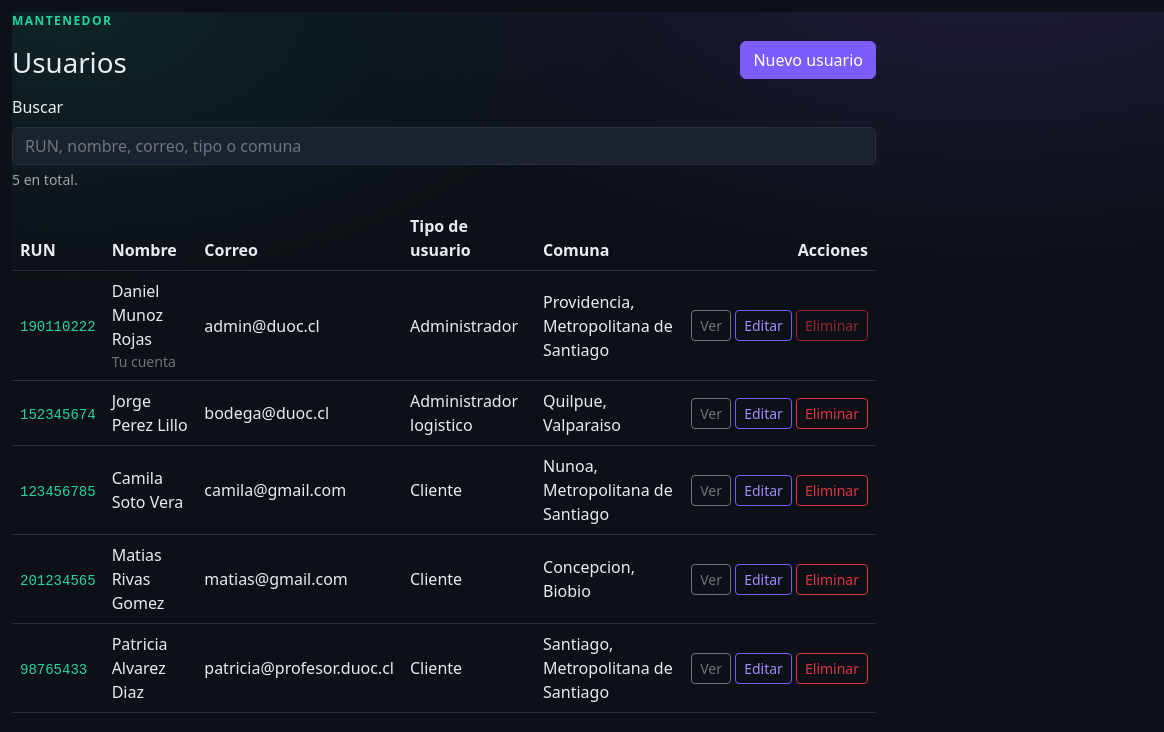
Scenario: admin / Usuarios › una busqueda sin resultados muestra el estado vacio
The image size is (1164, 732).
Type "zzzzzz" into the search field labelled "Buscar" at (444, 146), box [12,127,876,165]
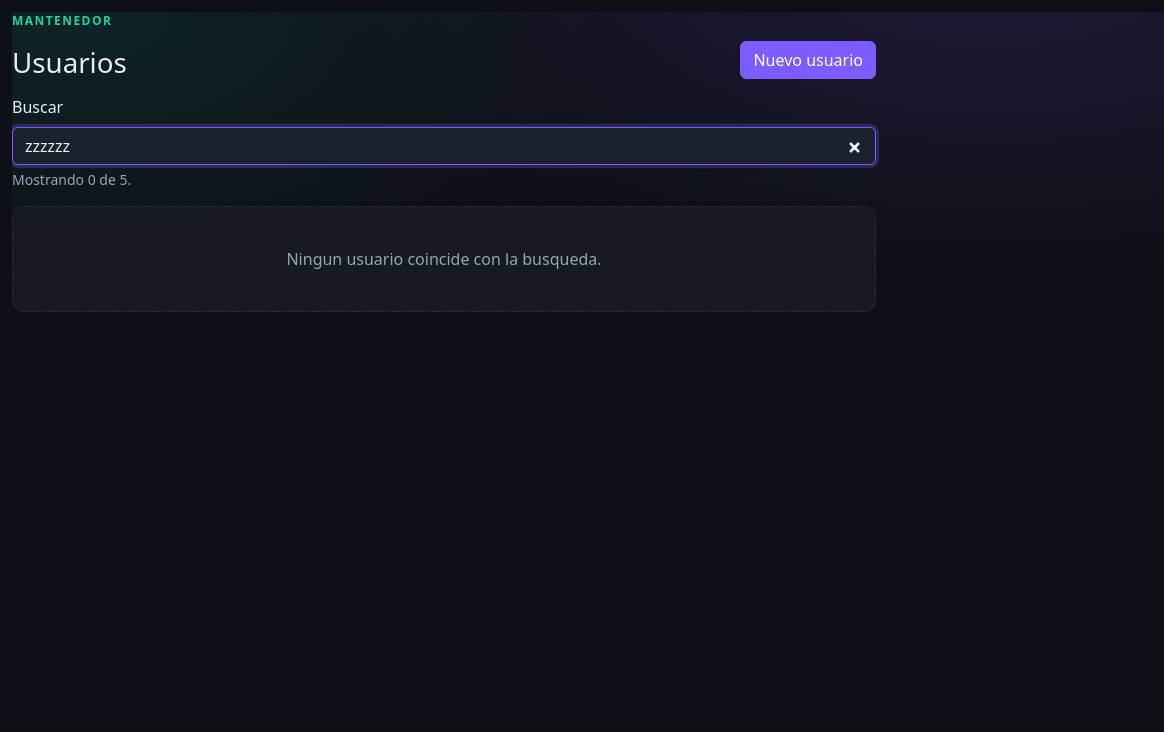
Expected: the text "Ningun usuario coincide con la busqueda." is shown, [286,248,602,270]
Expected: the table is gone
